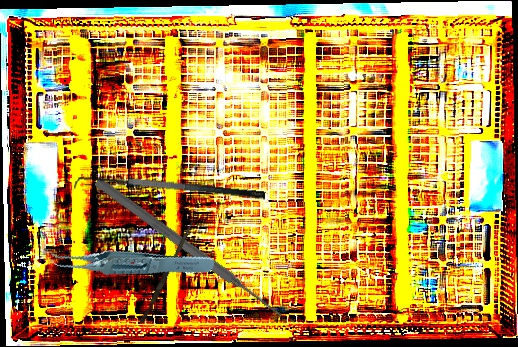Pusher: (92, 175, 286, 322), (139, 218, 195, 325)
Spatula Surgical: (73, 166, 266, 216)
Tissue Forceps: (41, 211, 216, 308)
